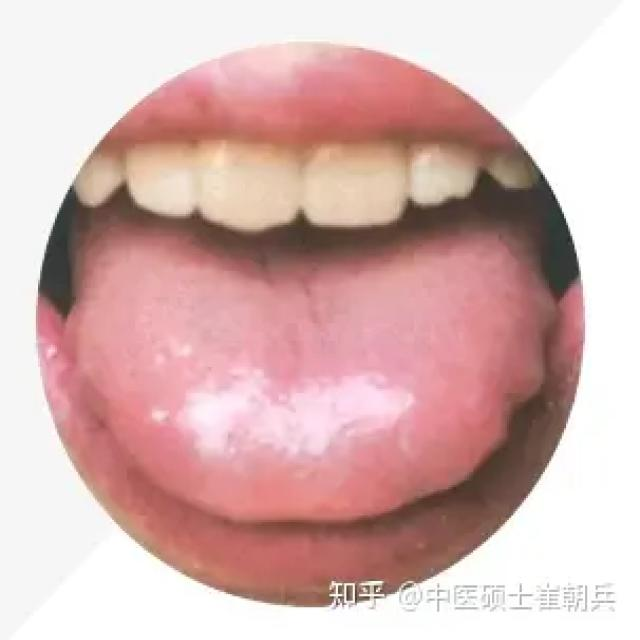tongue: (71, 222, 550, 528)
